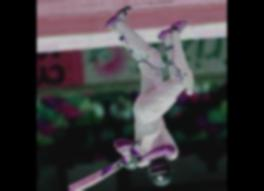batsman: (64, 0, 193, 191)
